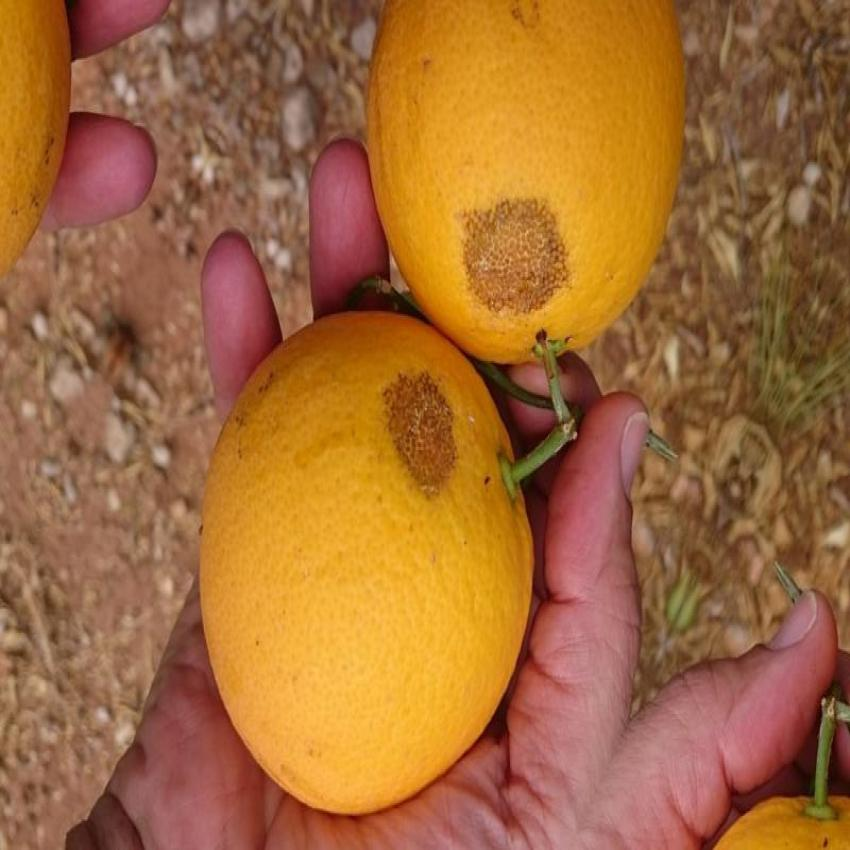Mal estado: (182, 302, 545, 824), (368, 1, 688, 382)
